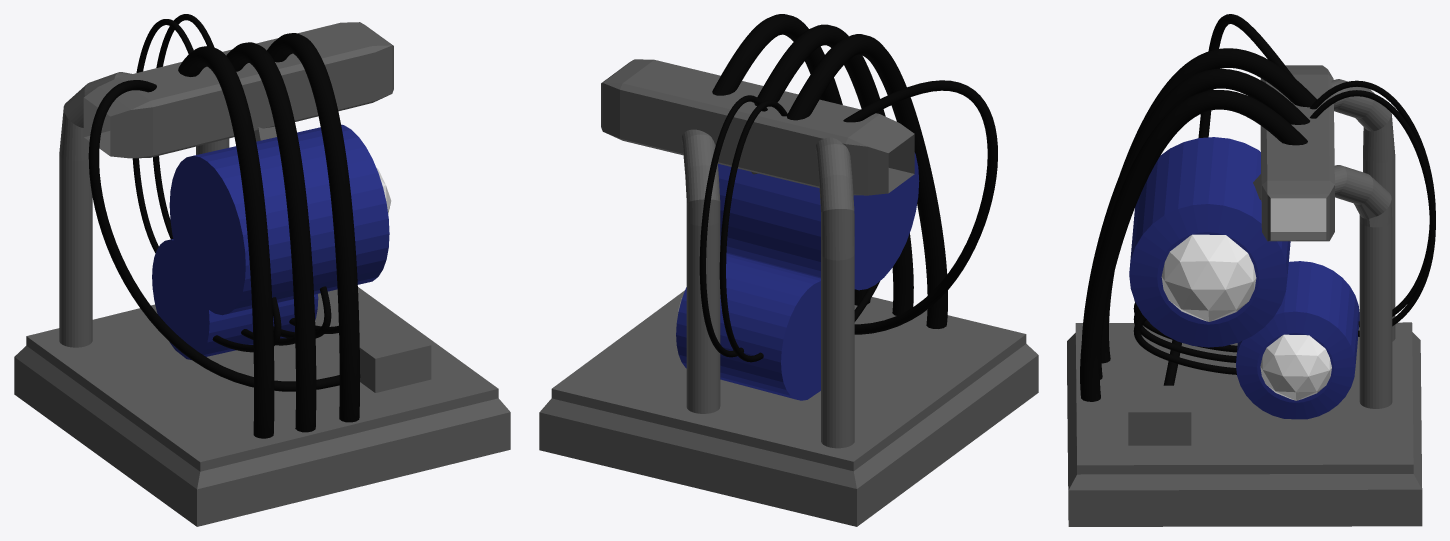
The model's file is PowerGenlevel10.fbx.
3 renders of one model, left to right at view 1: azimuth 30°, elevation 25°; view 2: azimuth 150°, elevation 25°; view 3: azimuth 270°, elevation 25°, orthographic. The views are drawn at different scales.
Visible parts, largest first — view 1: Cube, Cylinder.001, Cube.001, NurbsPath.002, NurbsPath, NurbsPath.001, Cylinder, NurbsPath.009, NurbsPath.007, NurbsPath.008, NurbsPath.005; view 2: Cube, Cube.001, Cylinder.001, Cylinder, NurbsPath.002, NurbsPath.009, NurbsPath.001, NurbsPath, NurbsPath.007, NurbsPath.008; view 3: Cube, Cylinder.001, Cylinder, Cube.001, NurbsPath, NurbsPath.001, NurbsPath.002, NurbsPath.008, NurbsPath.009, NurbsPath.007, NurbsPath.006, NurbsPath.003.
Boxes of the visible parts, x1,y1,x2,y2 form: Cube: (14, 72, 510, 526); Cylinder.001: (169, 124, 391, 315); Cube.001: (83, 22, 393, 158); NurbsPath.002: (178, 46, 274, 438); NurbsPath: (267, 33, 359, 422); NurbsPath.001: (226, 42, 316, 432); Cylinder: (152, 239, 318, 359); NurbsPath.009: (88, 80, 360, 391); NurbsPath.007: (132, 19, 193, 253); NurbsPath.008: (153, 14, 214, 239); NurbsPath.005: (212, 297, 281, 352); Cube: (539, 129, 1038, 526); Cube.001: (601, 59, 914, 195); Cylinder.001: (718, 152, 919, 290); Cylinder: (676, 253, 820, 400); NurbsPath.002: (786, 34, 947, 328); NurbsPath.009: (843, 80, 997, 334); NurbsPath.001: (754, 24, 913, 315); NurbsPath: (712, 14, 870, 305); NurbsPath.007: (719, 100, 787, 362); NurbsPath.008: (699, 95, 767, 357); Cube: (1067, 79, 1422, 526); Cylinder.001: (1129, 137, 1290, 347); Cylinder: (1236, 261, 1359, 419); Cube.001: (1260, 65, 1334, 241); NurbsPath: (1080, 90, 1307, 401); NurbsPath.001: (1081, 69, 1309, 379); NurbsPath.002: (1101, 48, 1316, 363); NurbsPath.008: (1310, 90, 1435, 336); NurbsPath.009: (1163, 14, 1295, 385); NurbsPath.007: (1310, 80, 1435, 327); NurbsPath.006: (1133, 314, 1236, 374); NurbsPath.003: (1133, 307, 1236, 362).
Bounding box in the file's own units: 2.1 × 2.24 × 1.98.
